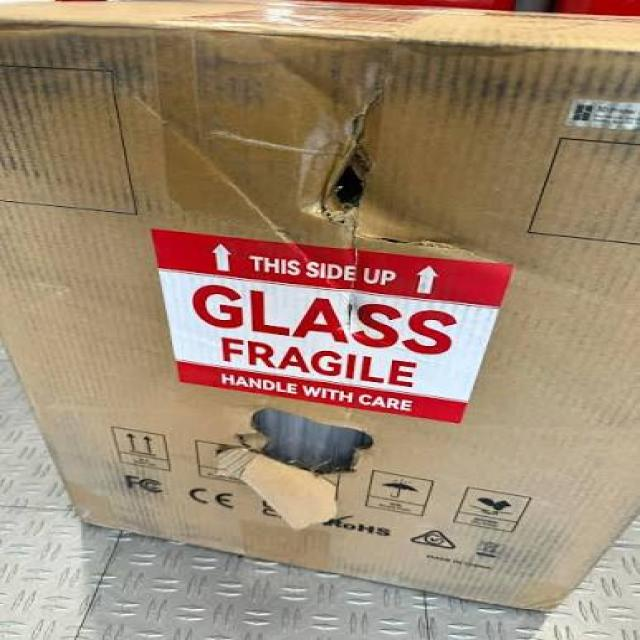fragile_label: (158, 224, 518, 429)
keep_dry_label: (365, 468, 449, 532)
package_damage: (270, 70, 507, 263), (213, 395, 390, 517)
this_side_up_label: (108, 422, 170, 477)
